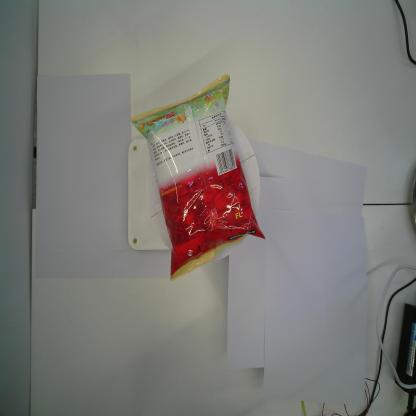Puffed Food: (130, 71, 266, 281)
